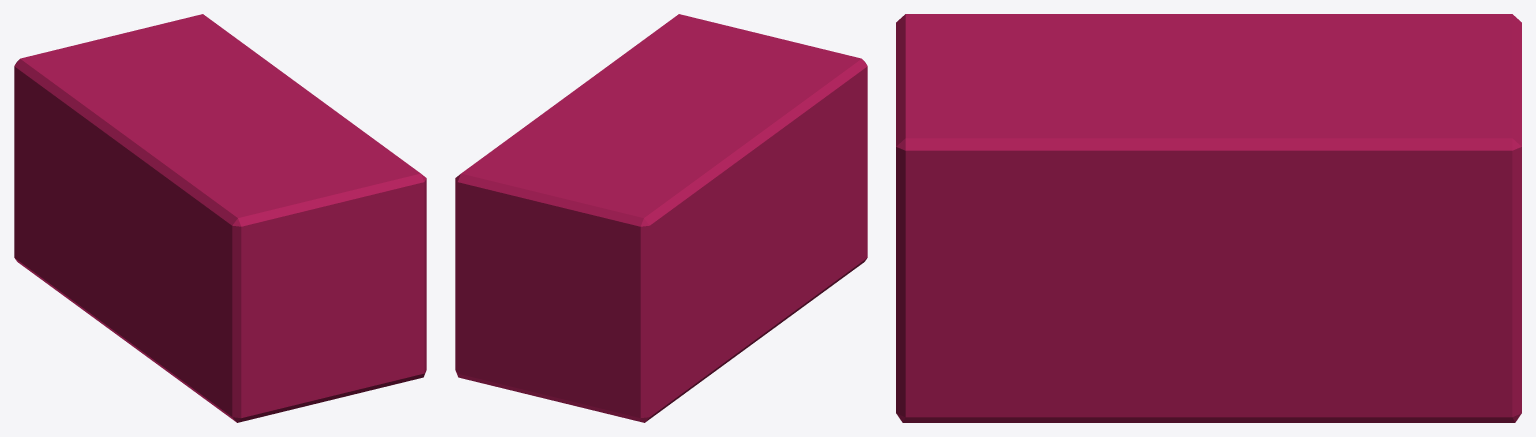
File: Part_2X1_simple 1.FBX
3 renders of one model, left to right at view 1: azimuth 30°, elevation 25°; view 2: azimuth 150°, elevation 25°; view 3: azimuth 270°, elevation 25°, orthographic. The views are drawn at different scales.
Parts seen in each view (by area): view 1: Part_2X1_simple; view 2: Part_2X1_simple; view 3: Part_2X1_simple.
Boxes of the visible parts, left/top/right/bottom form: Part_2X1_simple: left=14, top=14, right=426, bottom=422; Part_2X1_simple: left=455, top=14, right=867, bottom=422; Part_2X1_simple: left=896, top=14, right=1521, bottom=422.
Bounding box in the file's own units: 100 × 100 × 200.
